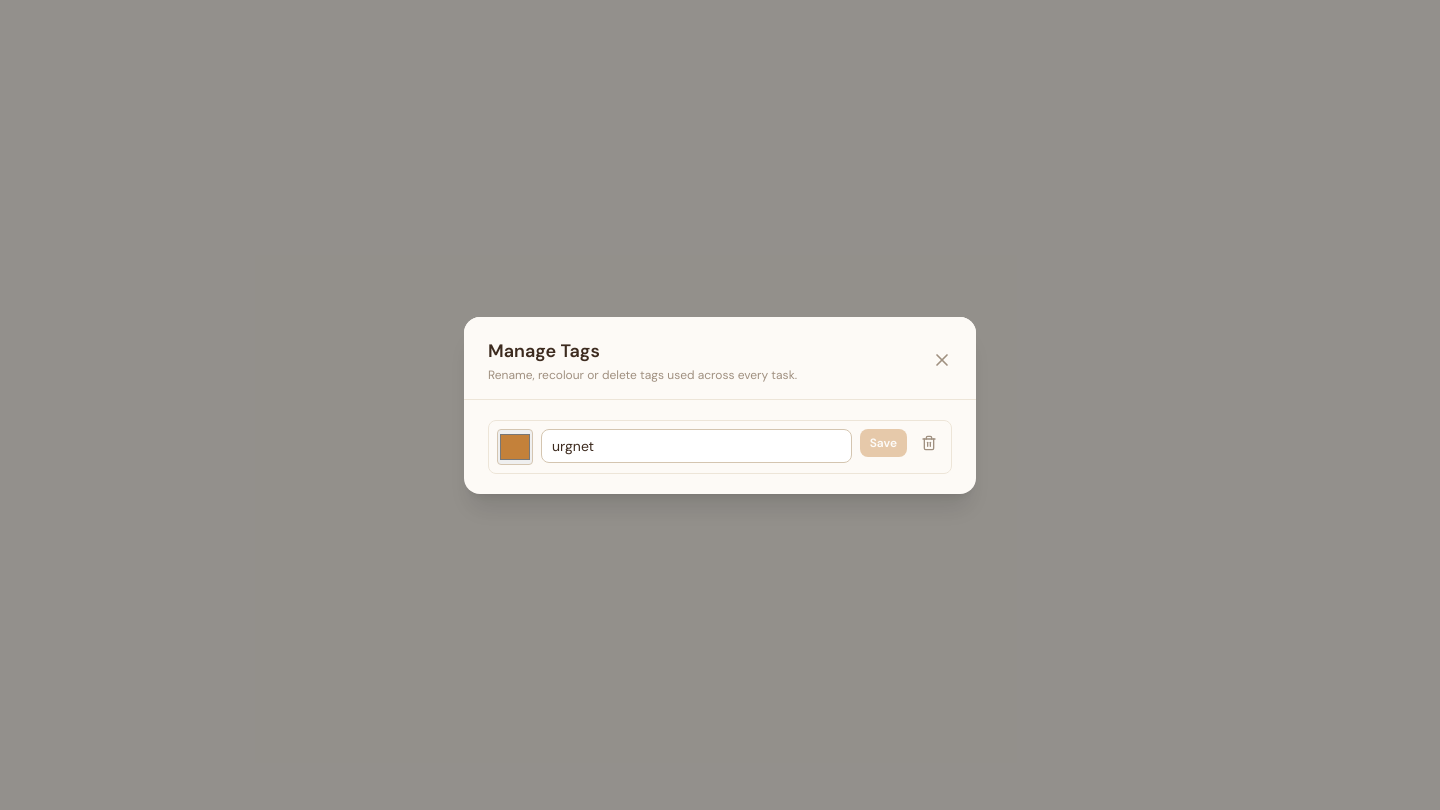
it: TagManagerModal 删除 › says so when the delete is silently dropped, and does not ask the page to reload
The width and height of the screenshot is (1440, 810).
Click the button named "Delete urgnet" at [929, 442], box [915,428,943,456]
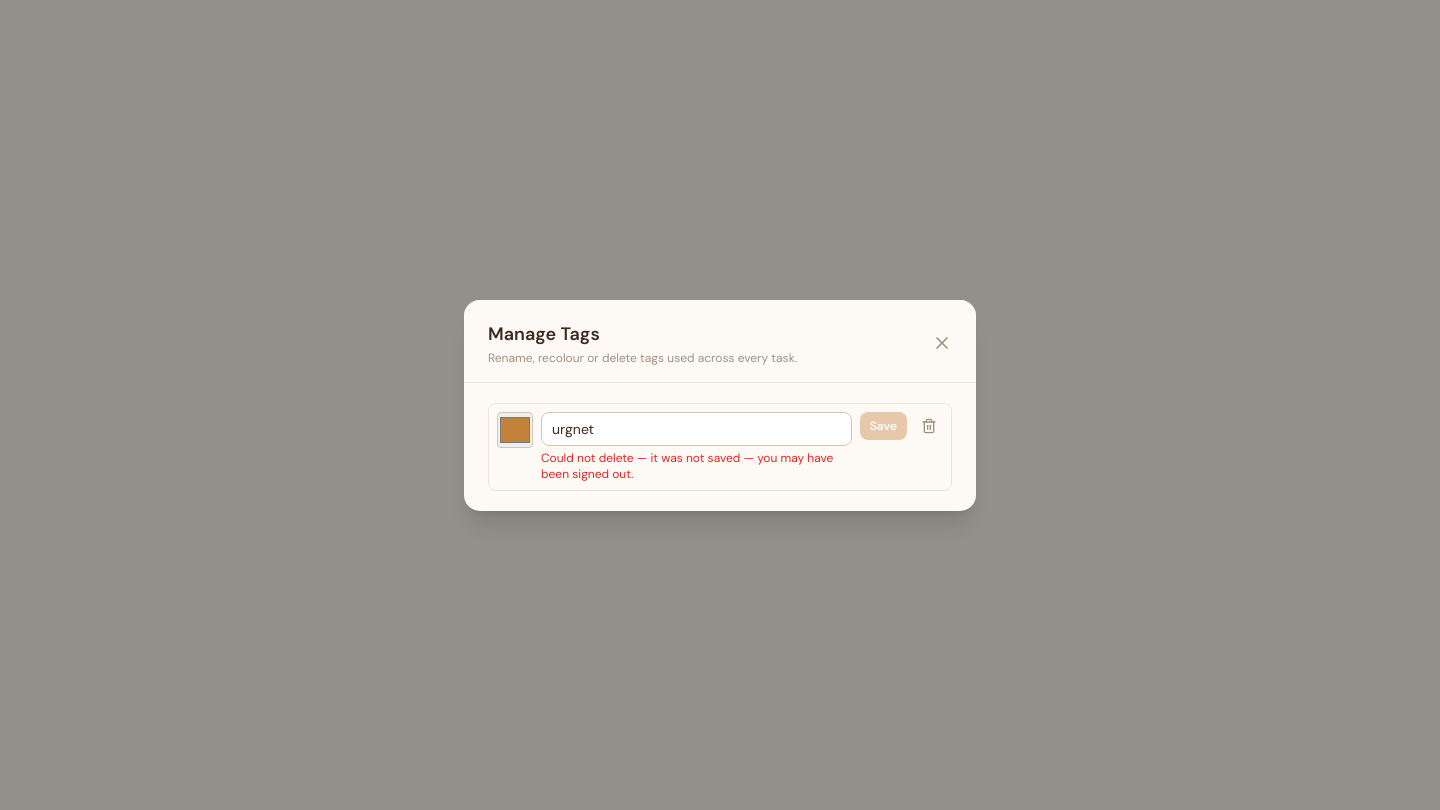
Result: the text "you may have been signed out" is shown at [541,450,833,482]
